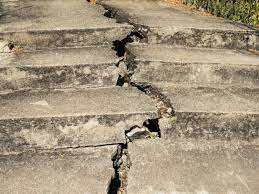crack: (87, 0, 178, 193)
